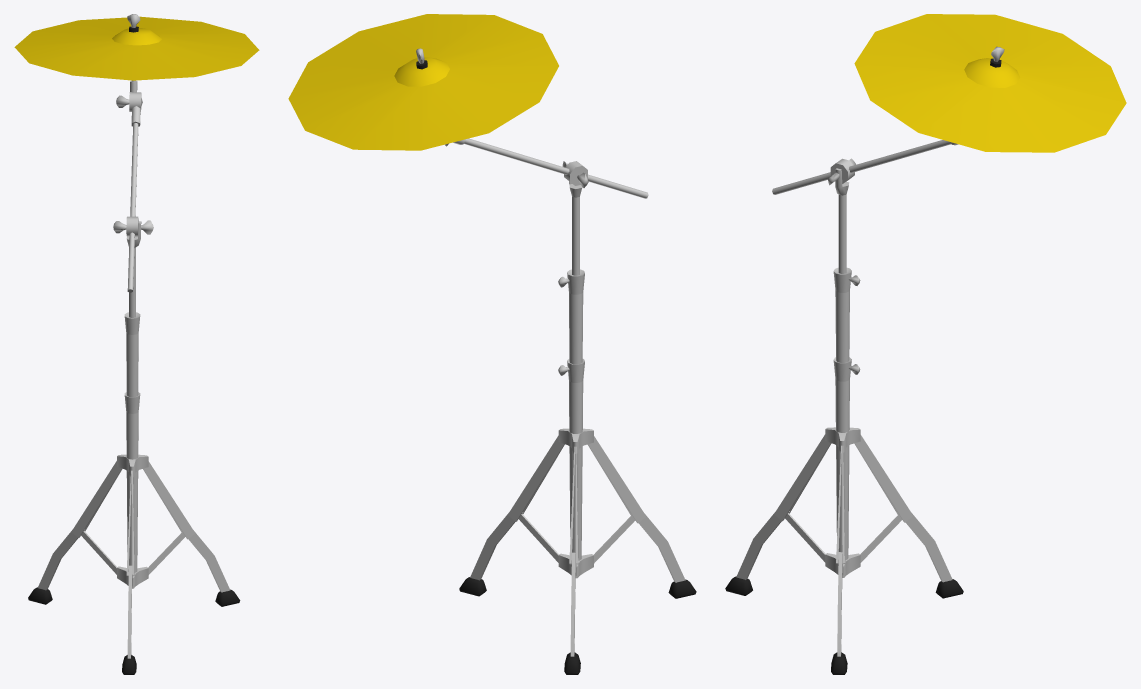
The model's file is RockSceneArmCymbol.fbx.
3 views of the same model, side by side, from view 1: azimuth 30°, elevation 25°; view 2: azimuth 150°, elevation 25°; view 3: azimuth 270°, elevation 25° (orthographic). The views are drawn at different scales.
Parts seen in each view (by area): view 1: ArmyCymbol_Cy, ArmCymbol_Legs, ArmCymbol_ArmCyPost, ArmCymbol_Post1, ArmCymbol_Post2; view 2: ArmyCymbol_Cy, ArmCymbol_Legs, ArmCymbol_ArmCyPost, ArmCymbol_Post1, ArmCymbol_Post2; view 3: ArmyCymbol_Cy, ArmCymbol_Legs, ArmCymbol_ArmCyPost, ArmCymbol_Post1, ArmCymbol_Post2.
Boxes of the visible parts, x1,y1,x2,y2 form: ArmyCymbol_Cy: (14, 16, 259, 80); ArmCymbol_Legs: (28, 454, 240, 674); ArmCymbol_ArmCyPost: (113, 14, 153, 317); ArmCymbol_Post1: (124, 392, 140, 572); ArmCymbol_Post2: (124, 312, 140, 397); ArmyCymbol_Cy: (288, 14, 558, 150); ArmCymbol_Legs: (459, 428, 696, 674); ArmCymbol_ArmCyPost: (416, 48, 648, 275); ArmCymbol_Post1: (558, 359, 584, 560); ArmCymbol_Post2: (558, 269, 584, 364); ArmyCymbol_Cy: (854, 14, 1126, 152); ArmCymbol_Legs: (725, 427, 963, 674); ArmCymbol_ArmCyPost: (772, 46, 1004, 273); ArmCymbol_Post1: (833, 357, 860, 560); ArmCymbol_Post2: (833, 267, 860, 362).
Bounding box in the file's own units: 535 × 1183 × 706.
